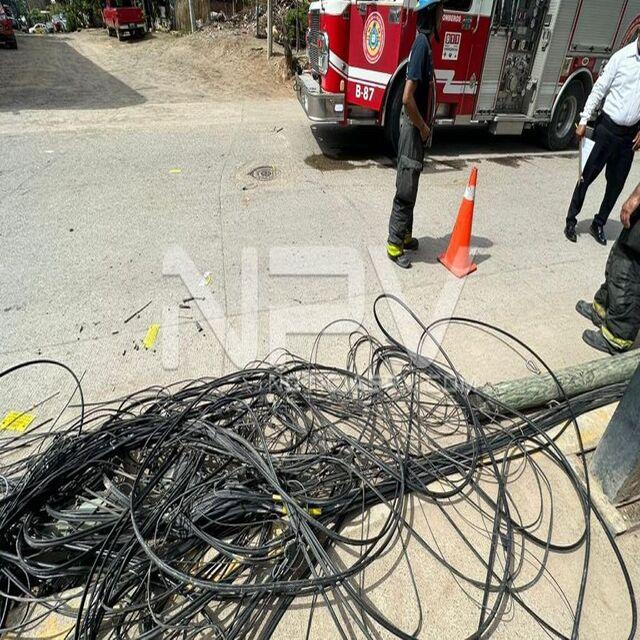Inclined Pole: (0, 305, 638, 640)
